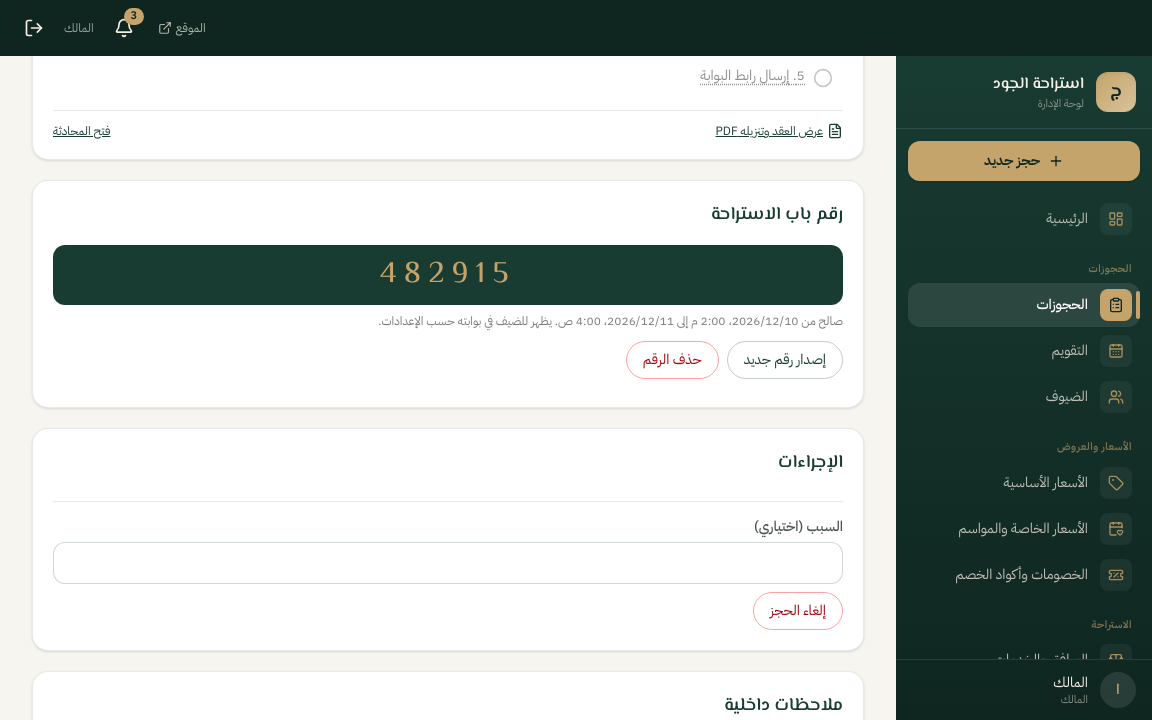
Test: door code › shows the confirmed booking's TTLock code to the owner and re-issues it
(page scrolled)
Expected: the text "482915" is shown, 53,245 -> 843,305
Click the button "إصدار رقم جديد".
click(785, 360)  # box 727,341 -> 843,379
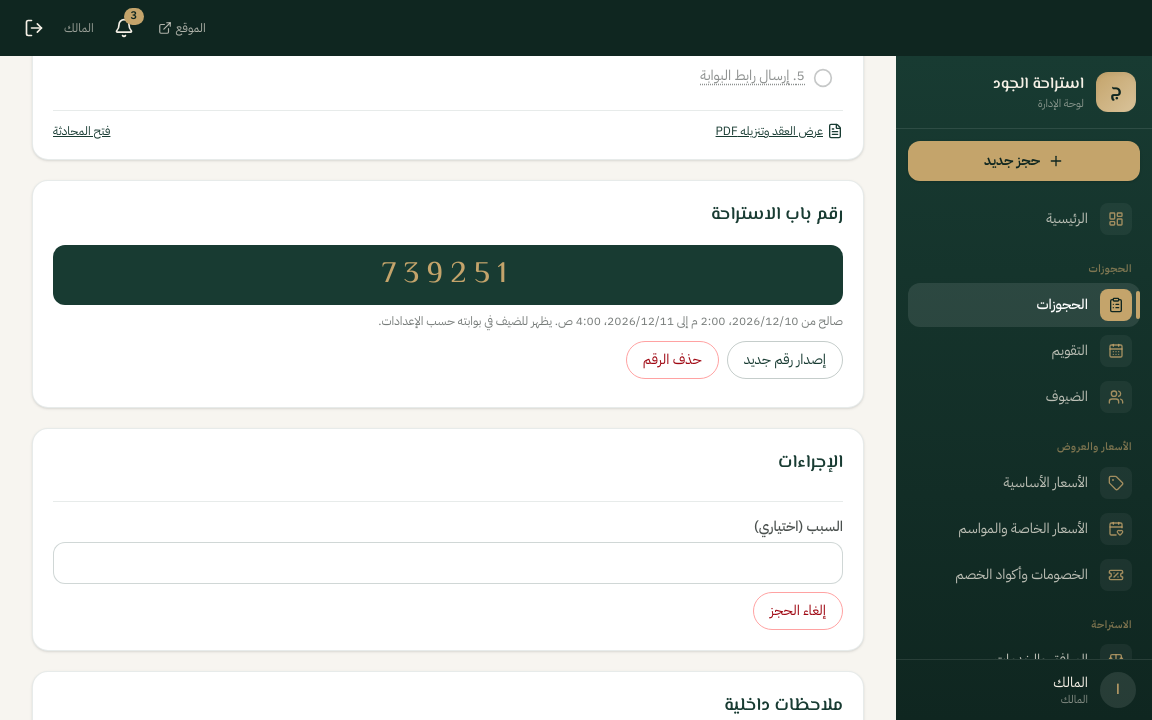
Expected: the text "739251" is shown, 53,245 -> 843,305
